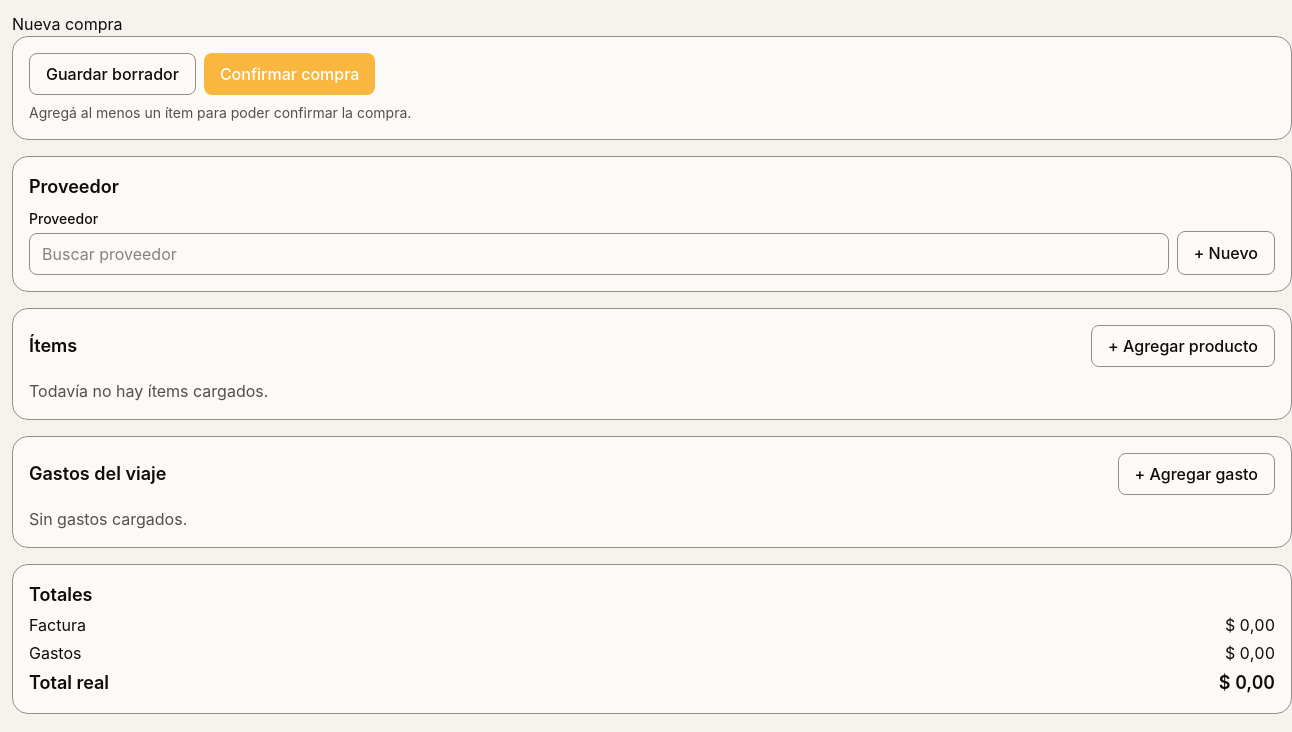
Test: CompraPantalla › nueva compra online: Guardar crea el borrador y navega a /stock/compra/:id
Type "Quesos" into the dropdown labelled "Proveedor" at (599, 254), box [29,233,1169,275]
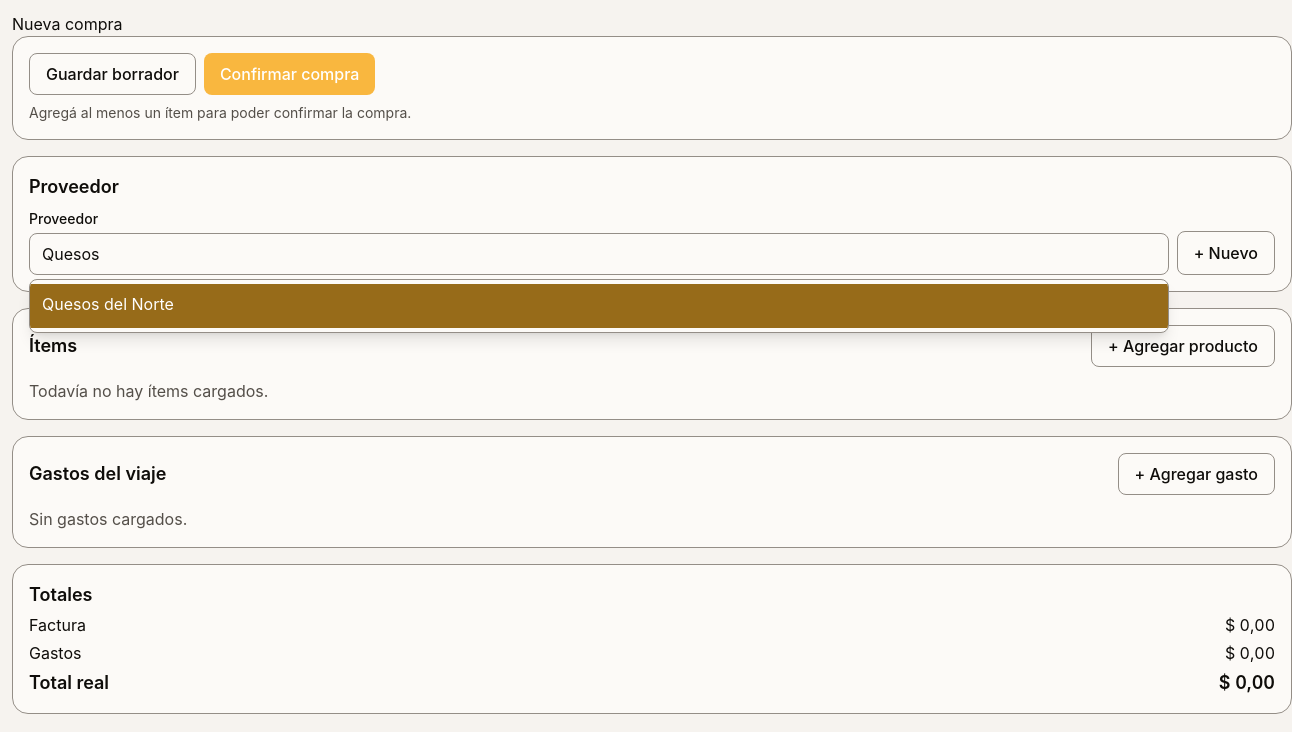
Press the mouse on the option "Quesos del Norte" at (108, 304), box [30,284,1168,328]
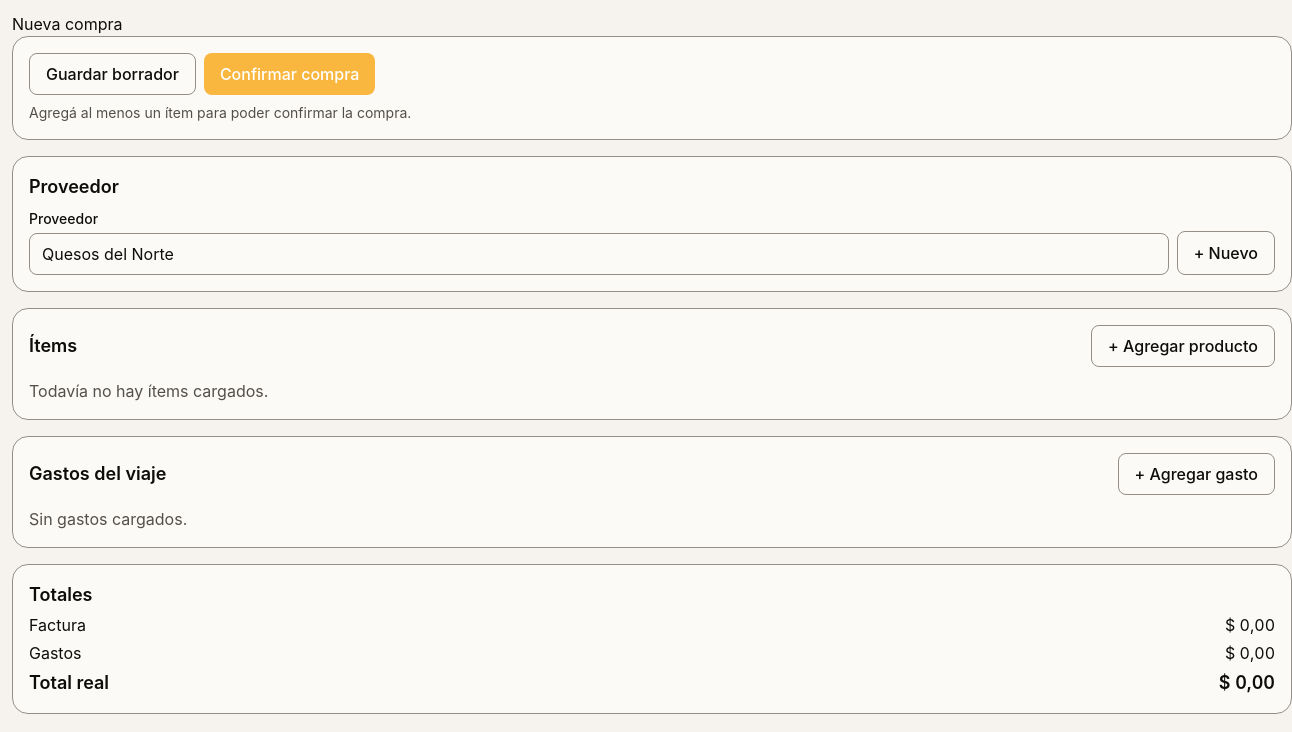
Click the button "Guardar borrador" at (112, 74), box [29,53,196,95]
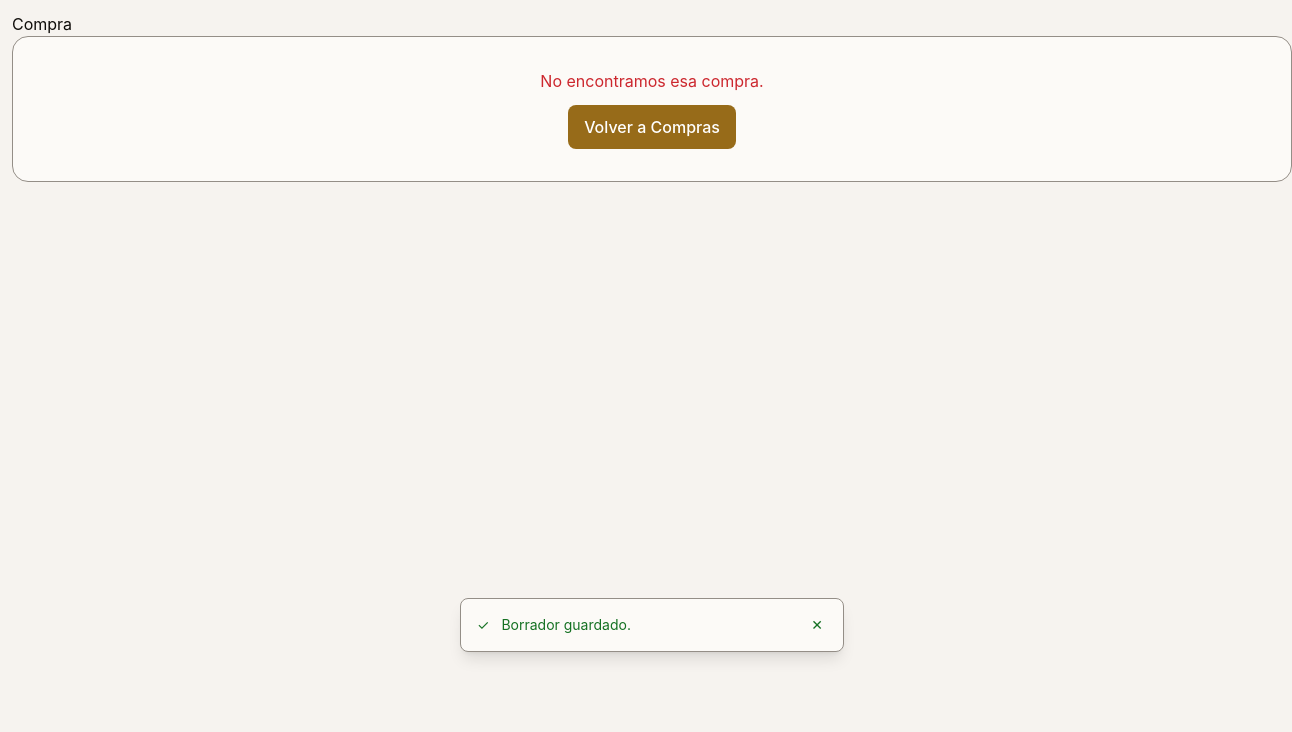
Expected: the text "Borrador guardado." is shown, [501,616,631,633]
